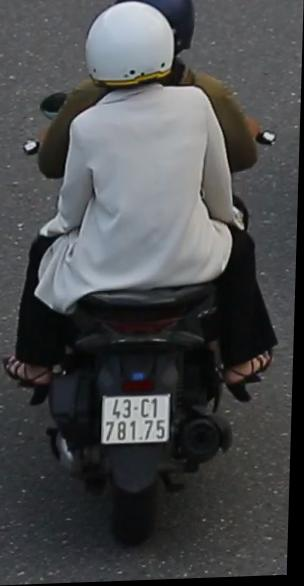LP: (102, 391, 179, 453)
helmet: (80, 0, 180, 107)
